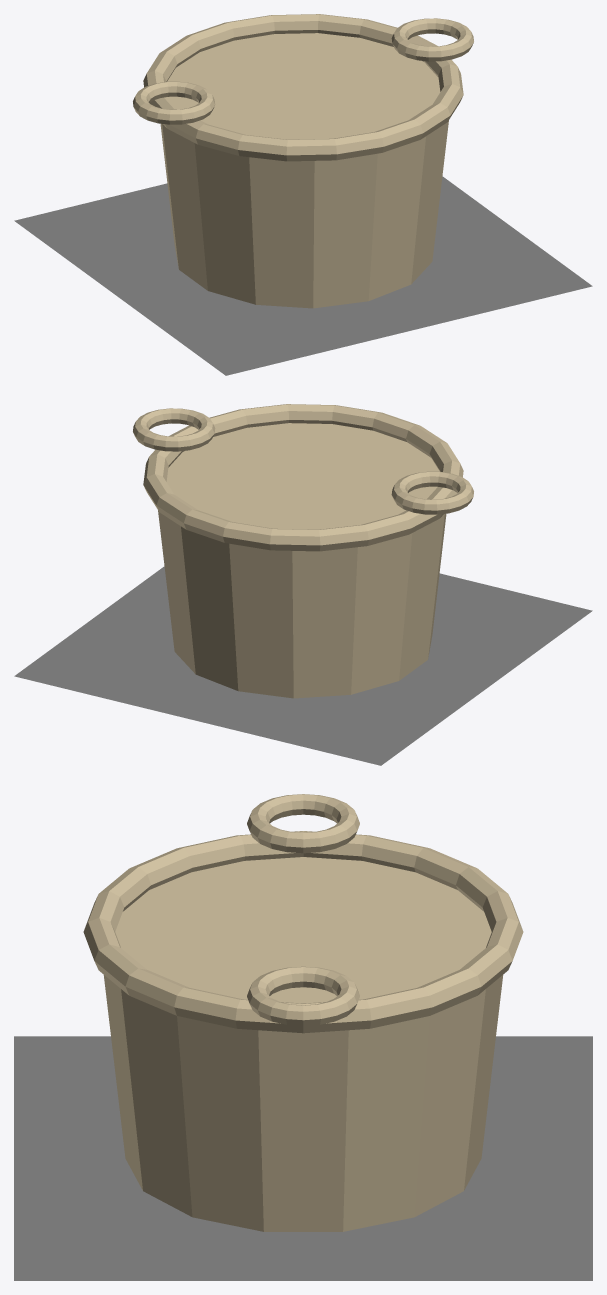
File: rope-basket.glb
3 renders of one model, top to bottom at view 1: azimuth 30°, elevation 25°; view 2: azimuth 150°, elevation 25°; view 3: azimuth 270°, elevation 25°, orthographic. The views are drawn at different scales.
Parts seen in each view (by area): view 1: body, ContactShadow, rim, handle.001, handle; view 2: body, ContactShadow, rim, handle.001, handle; view 3: body, ContactShadow, rim, handle.001, handle.
Boxes of the visible parts, <box> form: body: <box>160,33,448,308</box>; ContactShadow: <box>14,176,592,375</box>; rim: <box>143,14,463,161</box>; handle.001: <box>133,81,215,124</box>; handle: <box>391,18,473,61</box>; body: <box>158,423,446,698</box>; ContactShadow: <box>14,566,592,765</box>; rim: <box>143,404,463,551</box>; handle.001: <box>391,471,473,514</box>; handle: <box>133,408,215,451</box>; body: <box>103,857,503,1231</box>; ContactShadow: <box>14,1036,592,1280</box>; rim: <box>83,831,523,1033</box>; handle.001: <box>247,794,359,853</box>; handle: <box>247,966,359,1025</box>.
Bounding box in the file's own units: 0.95 × 0.488 × 0.95.
3 materials, 1 textured.
